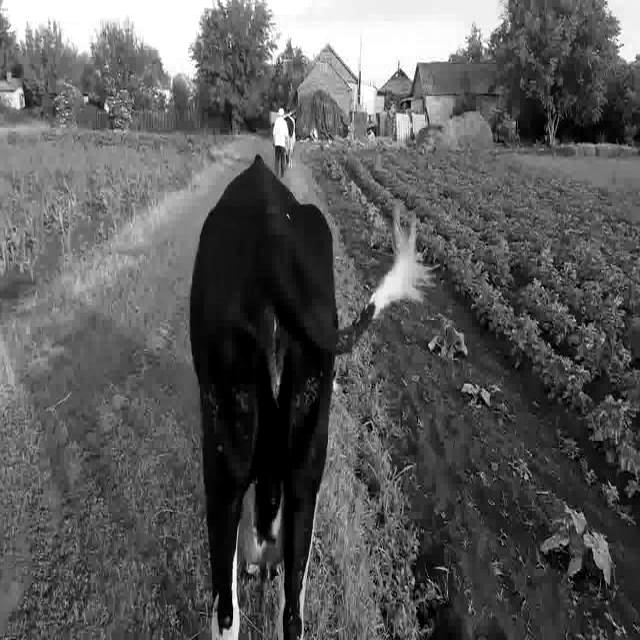COW: (190, 158, 416, 640)
